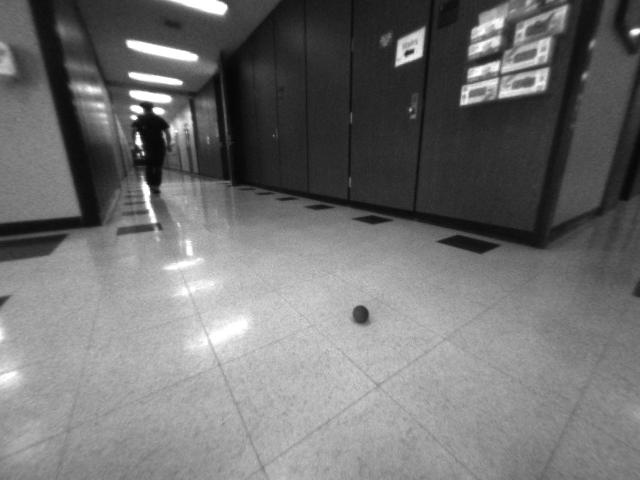dogtoy: (342, 297, 380, 329)
